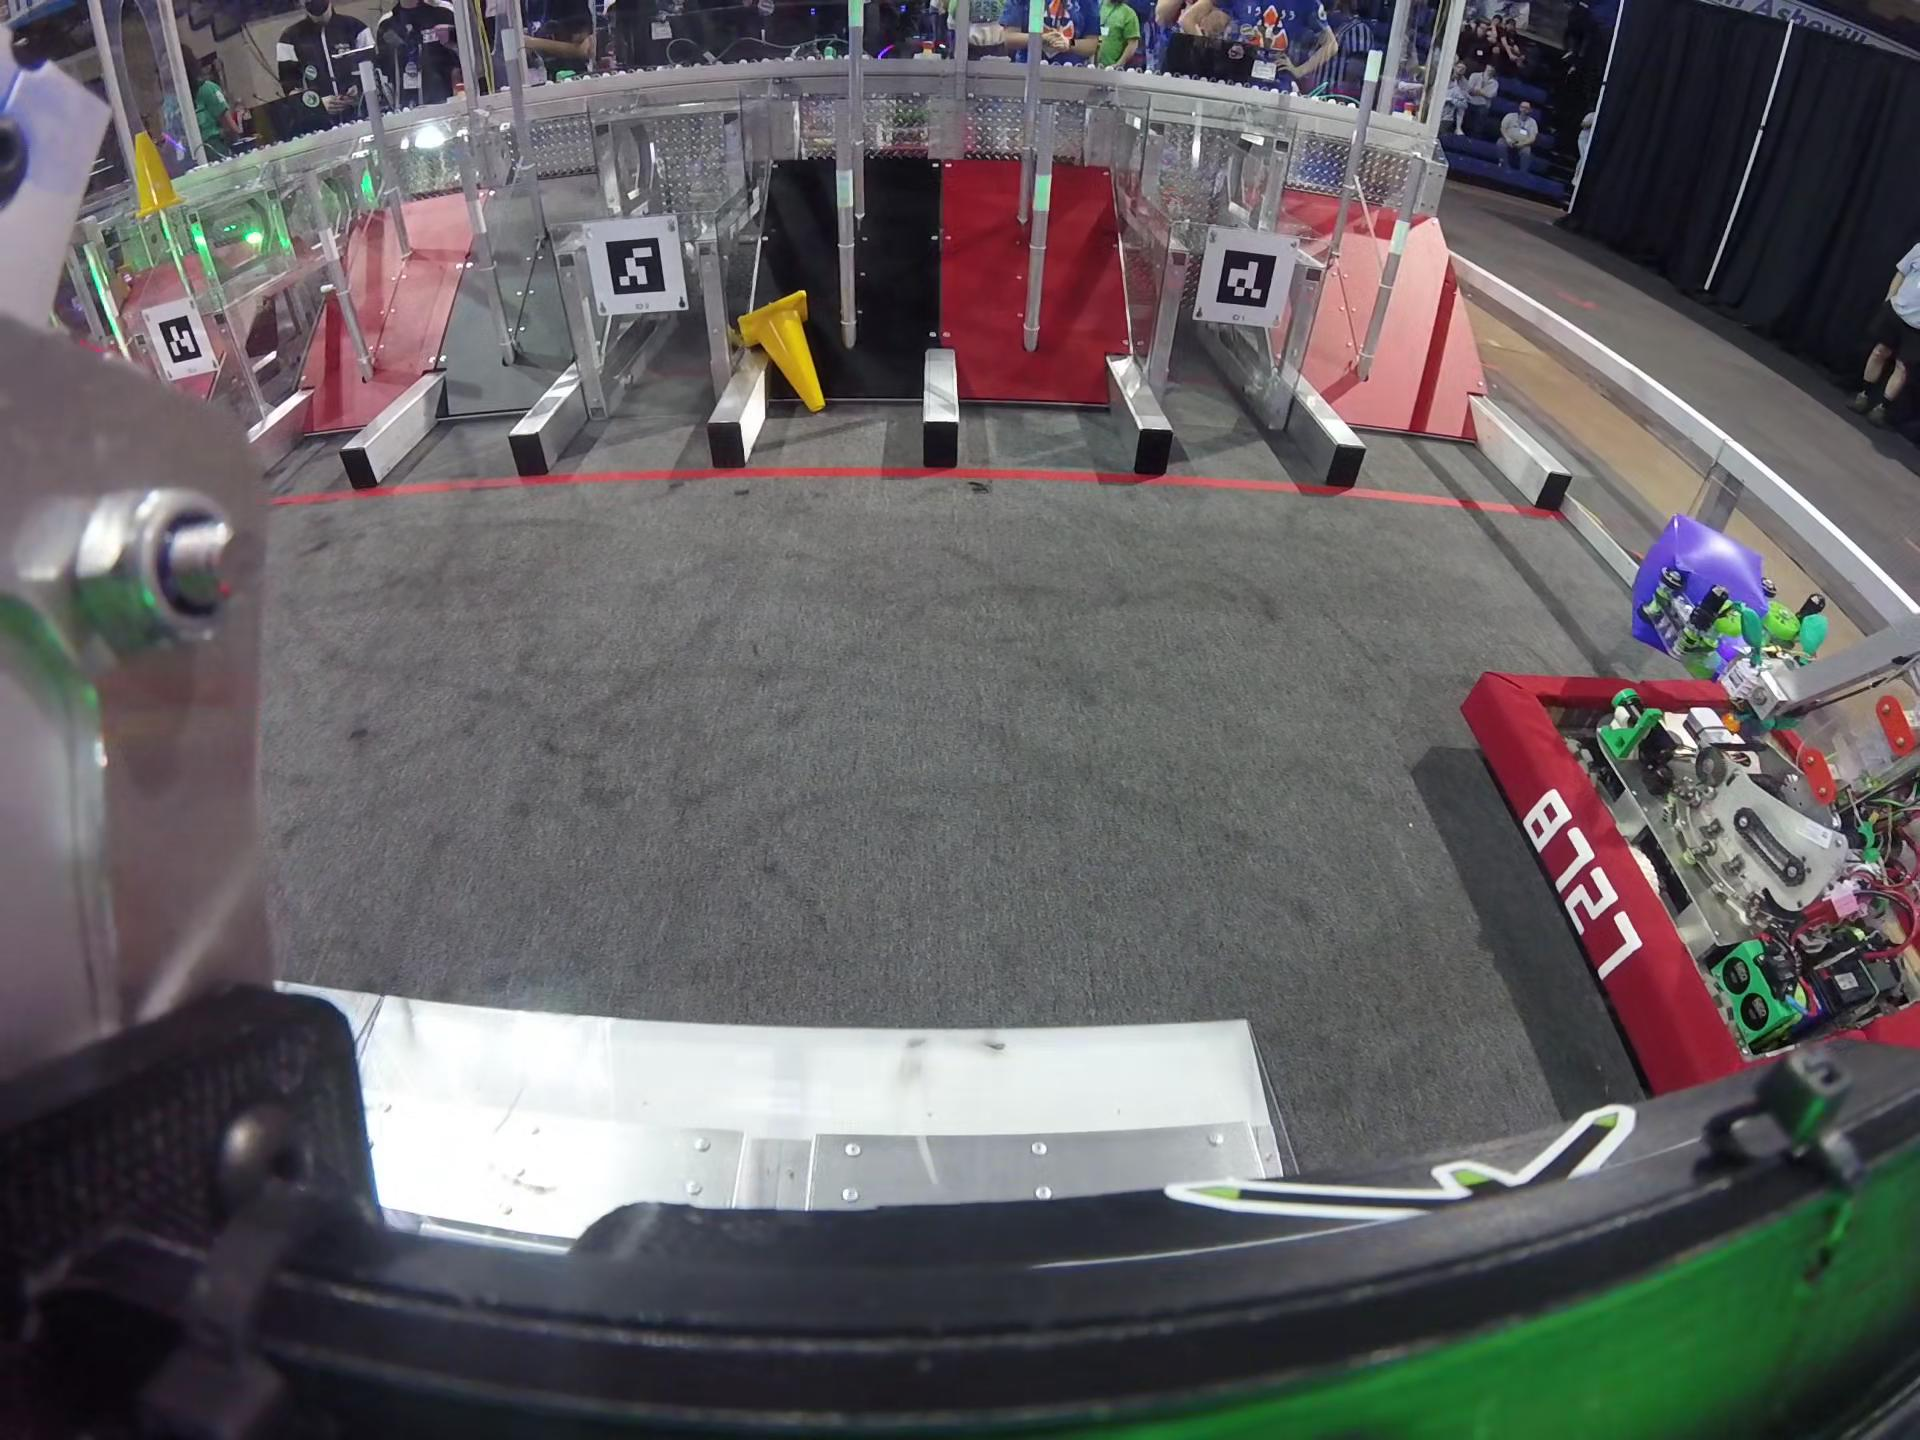robot: (1465, 619, 1920, 1101)
